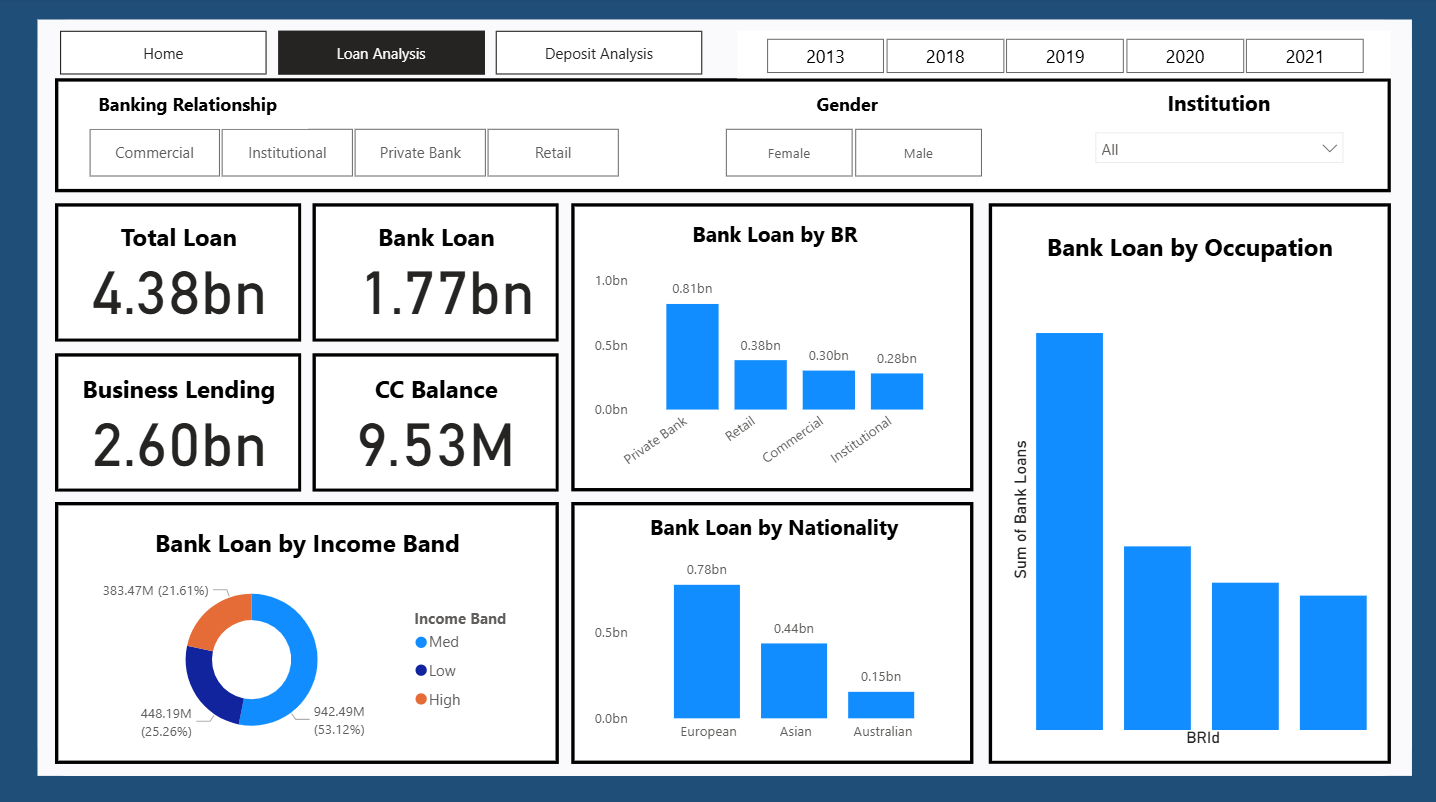

The page's visual inventory and layout, read from the dashboard file:
{"tool":"powerbi","page":{"name":"Loan Analysis","canvas":[1280,720],"ordinal":1},"visuals":[{"type":"shape","box":[32.9,20.6,1224,673.8],"z":0},{"type":"shape","box":[49.4,72.7,1189.7,101.5],"z":1000},{"type":"shape","box":[509.1,450.1,358.1,233.3],"z":2000},{"type":"shape","title":"Total Clients","box":[49.4,317,219.6,123.5],"z":3000},{"type":"shape","title":"Total Clients","box":[49.4,183.9,219.6,123.5],"z":4000},{"type":"shape","title":"Total Clients","box":[278.6,183.9,219.6,123.5],"z":5000},{"type":"shape","title":"Total Clients","box":[278.6,317,219.6,123.5],"z":6000},{"type":"shape","box":[509.1,183.9,358.1,256.6],"z":7000},{"type":"shape","box":[49.4,450.1,448.7,233.3],"z":8000},{"type":"shape","box":[881,183.9,358.1,499.5],"z":9000},{"type":"textbox","box":[64.5,193.5,189.4,42.5],"z":10000},{"type":"textbox","box":[293.7,329.3,189.4,42.5],"z":11000},{"type":"textbox","box":[293.7,193.5,189.4,42.5],"z":12000},{"type":"textbox","box":[118,466.6,311.5,42.5],"z":13000},{"type":"textbox","box":[596.9,193.5,186.6,42.5],"z":14000},{"type":"textbox","box":[525.6,454.2,328,42.5],"z":15000},{"type":"textbox","box":[904.3,203.1,311.5,42.5],"z":16000},{"type":"textbox","box":[64.5,329.3,189.4,42.5],"z":17000},{"type":"slicer","fields":{"Values":["banking_details.Year of Joining"]},"box":[657.3,30.2,581.8,42.5],"z":18000},{"type":"card","fields":{"Values":["banking_details.Total Loan"]},"box":[74.1,236,170.2,61.7],"z":19000},{"type":"card","fields":{"Values":["Sum(banking_details.Credit Card Balance)"]},"box":[303.3,371.9,170.2,61.7],"z":20000},{"type":"card","fields":{"Values":["Sum(banking_details.Business Lending)"]},"box":[74.1,371.9,170.2,61.7],"z":21000},{"type":"card","fields":{"Values":["Sum(banking_details.Bank Loans)"]},"box":[312.9,236,170.2,61.7],"z":22000},{"type":"donutChart","fields":{"Category":["banking_details.Income Band"],"Y":["Sum(banking_details.Bank Loans)"]},"box":[74.1,509.1,399.3,163.3],"z":23000},{"type":"columnChart","fields":{"Y":["Sum(banking_details.Bank Loans)"],"Category":["banking_details.BRId"]},"box":[524.2,236,329.3,197.6],"z":24000},{"type":"columnChart","fields":{"Y":["Sum(banking_details.Bank Loans)"],"Category":["banking_details.Nationality"]},"box":[524.2,488.5,329.3,183.9],"z":25000},{"type":"columnChart","fields":{"Y":["Sum(banking_details.Bank Loans)"],"Category":["banking_details.BRId"]},"box":[896.1,245.6,329.3,426.8],"z":26000},{"type":"slicer","fields":{"Values":["banking_details.BRId"]},"box":[53.5,109.8,521.4,56.3],"z":27000},{"type":"slicer","fields":{"Values":["banking_details.GenderId"]},"box":[620.2,109.8,278.6,56.3],"z":28000},{"type":"slicer","fields":{"Values":["banking_details.IAId"]},"box":[964.7,109.8,241.5,56.3],"z":29000},{"type":"textbox","box":[60.4,79.6,214.1,38.4],"z":30000},{"type":"textbox","box":[655.9,79.6,197.6,31.6],"z":31000},{"type":"textbox","box":[978.4,76.8,214.1,42.5],"z":32000},{"type":"pageNavigator","box":[53.5,30.2,575,39.8],"z":33000}]}

Visuals, with their boxes in screenshot pixels (x1, y1, x2, y2), scaled from the page's 1280x720 canvas onto the 1436x802 screenshot:
shape: box=[37, 23, 1410, 773]
shape: box=[55, 81, 1390, 194]
shape: box=[571, 501, 973, 761]
"Total Clients" shape: box=[55, 353, 302, 491]
"Total Clients" shape: box=[55, 205, 302, 342]
"Total Clients" shape: box=[313, 205, 559, 342]
"Total Clients" shape: box=[313, 353, 559, 491]
shape: box=[571, 205, 973, 491]
shape: box=[55, 501, 559, 761]
shape: box=[988, 205, 1390, 761]
textbox: box=[72, 216, 285, 263]
textbox: box=[329, 367, 542, 414]
textbox: box=[329, 216, 542, 263]
textbox: box=[132, 520, 482, 567]
textbox: box=[670, 216, 879, 263]
textbox: box=[590, 506, 958, 553]
textbox: box=[1015, 226, 1364, 274]
textbox: box=[72, 367, 285, 414]
slicer - banking_details.Year of Joining: box=[737, 34, 1390, 81]
card - banking_details.Total Loan: box=[83, 263, 274, 332]
card - Sum(banking_details.Credit Card Balance): box=[340, 414, 531, 483]
card - Sum(banking_details.Business Lending): box=[83, 414, 274, 483]
card - Sum(banking_details.Bank Loans): box=[351, 263, 542, 332]
donutChart - banking_details.Income Band x Sum(banking_details.Bank Loans): box=[83, 567, 531, 749]
columnChart - Sum(banking_details.Bank Loans) x banking_details.BRId: box=[588, 263, 958, 483]
columnChart - Sum(banking_details.Bank Loans) x banking_details.Nationality: box=[588, 544, 958, 749]
columnChart - Sum(banking_details.Bank Loans) x banking_details.BRId: box=[1005, 274, 1375, 749]
slicer - banking_details.BRId: box=[60, 122, 645, 185]
slicer - banking_details.GenderId: box=[696, 122, 1008, 185]
slicer - banking_details.IAId: box=[1082, 122, 1353, 185]
textbox: box=[68, 89, 308, 131]
textbox: box=[736, 89, 958, 124]
textbox: box=[1098, 86, 1338, 133]
pageNavigator: box=[60, 34, 705, 78]
